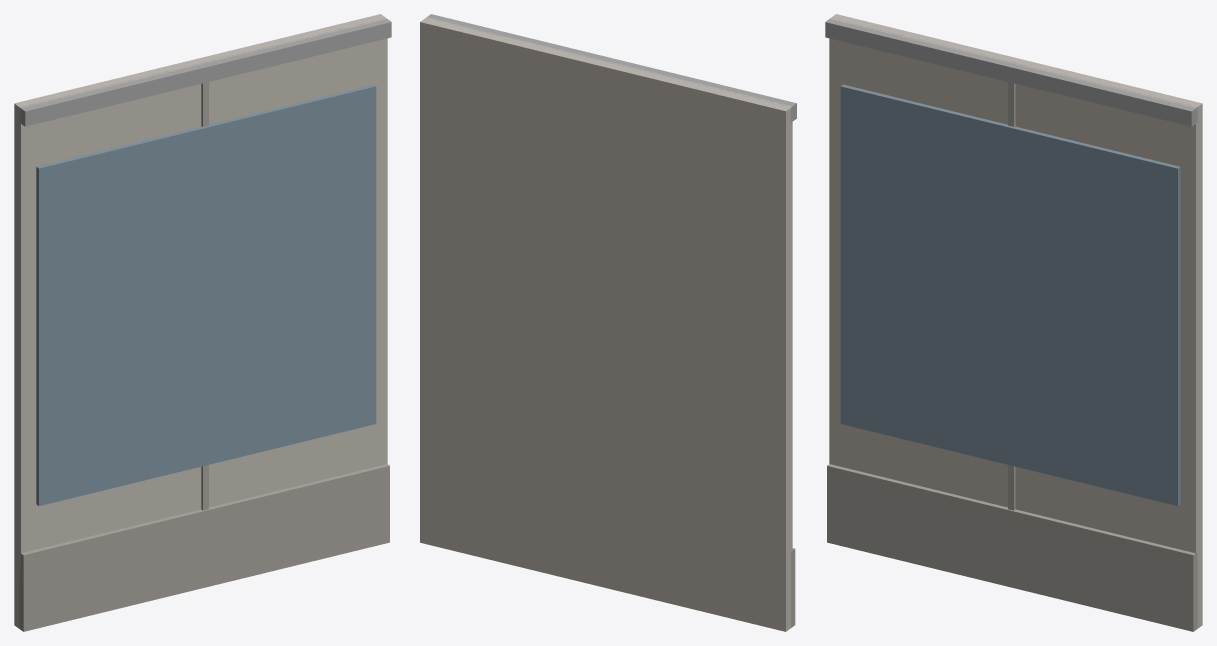
Rendered from tent_wall_glazed.obj.
3 renders of one model, left to right at view 1: azimuth 30°, elevation 25°; view 2: azimuth 150°, elevation 25°; view 3: azimuth 330°, elevation 25°, orthographic.
Bounding box in the file's own units: 2.5 × 3.4 × 0.13.
